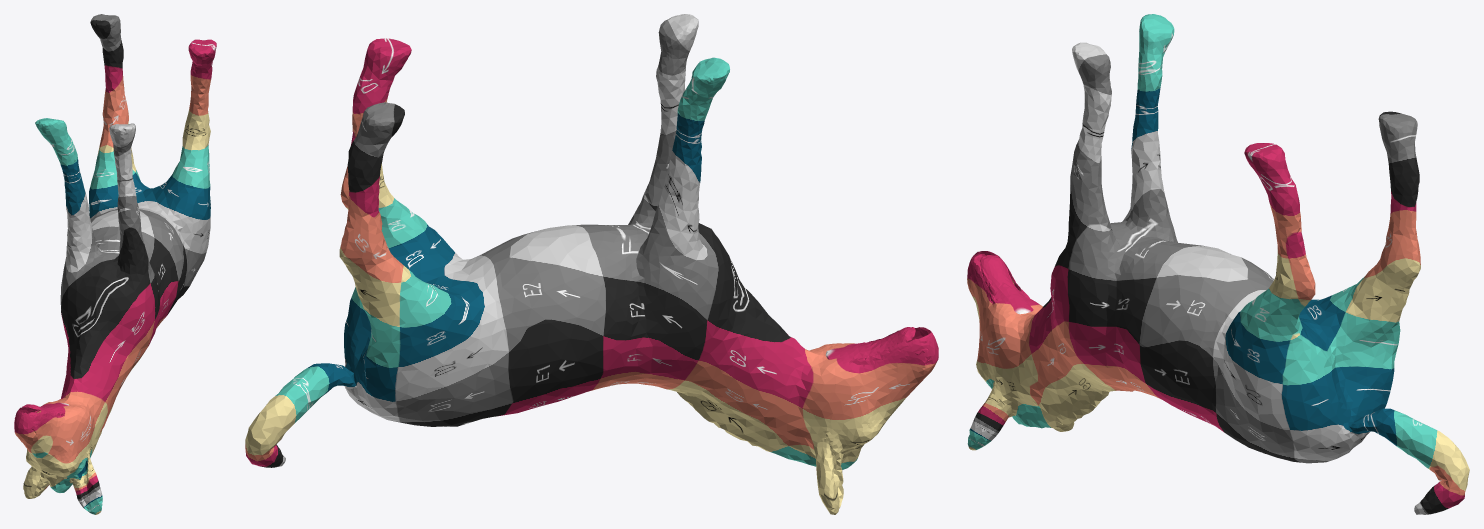
File: cougar_02-horse_10.obj
The picture shows the model from 3 angles, left to right: view 1: azimuth 30°, elevation 25°; view 2: azimuth 150°, elevation 25°; view 3: azimuth 270°, elevation 25°; orthographic projection. The views are drawn at different scales.
Visible parts, largest first — view 1: cougar_02-horse_10_export; view 2: cougar_02-horse_10_export; view 3: cougar_02-horse_10_export.
Part boxes in pixels (left/top/right/bottom): cougar_02-horse_10_export: left=14, top=14, right=216, bottom=514; cougar_02-horse_10_export: left=245, top=14, right=938, bottom=514; cougar_02-horse_10_export: left=967, top=14, right=1469, bottom=514.
Bounding box in the file's own units: 0.7878 × 0.7952 × 0.8038.
